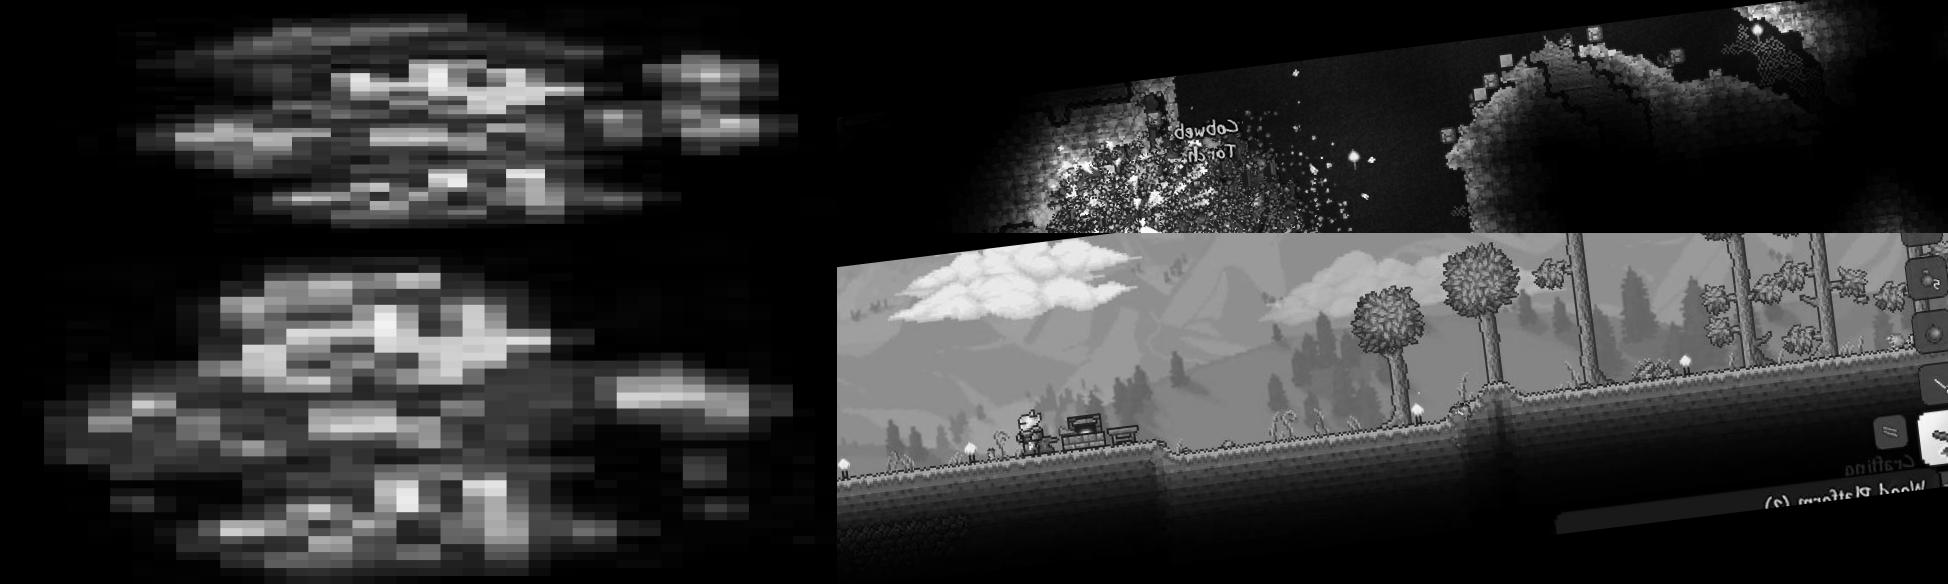zombie: (0, 234, 837, 584), (0, 0, 837, 234)
